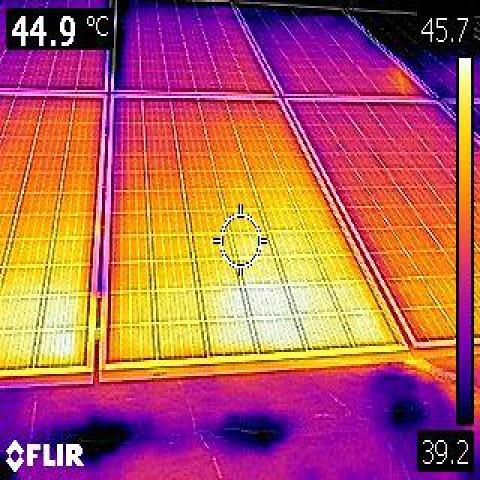fault: (218, 279, 298, 339), (42, 290, 82, 366)
